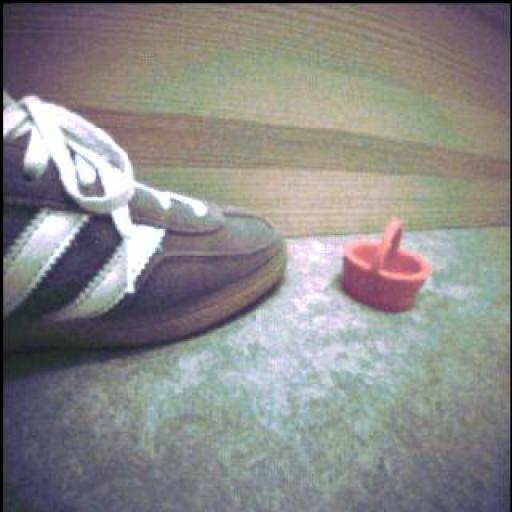Bucket: (344, 220, 432, 313)
